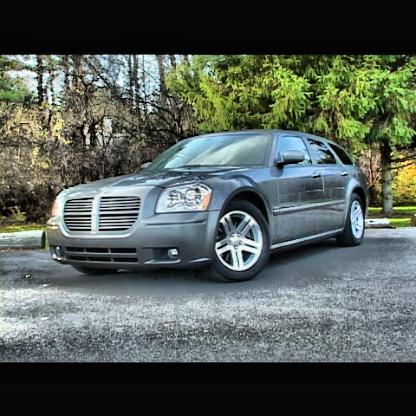Dodge Magnum Wagon 2008: (46, 130, 368, 286)
